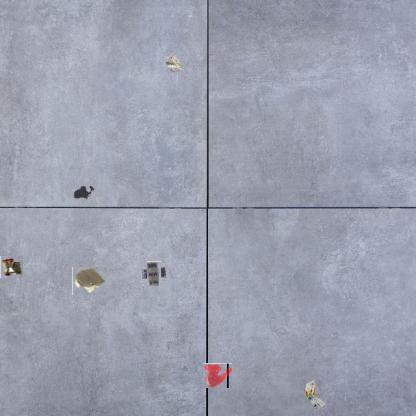dirty: (72, 267, 107, 295), (302, 378, 328, 412), (0, 256, 23, 278), (162, 52, 183, 72), (145, 264, 164, 284)
liquid: (202, 363, 232, 388), (72, 184, 96, 200)
